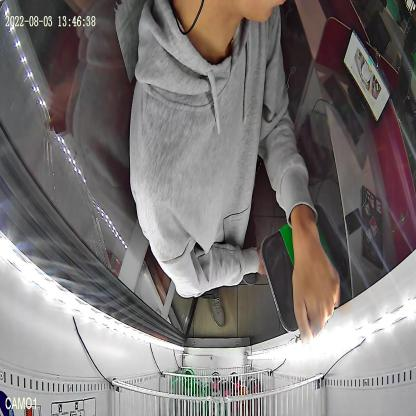green: (260, 204, 347, 333)
